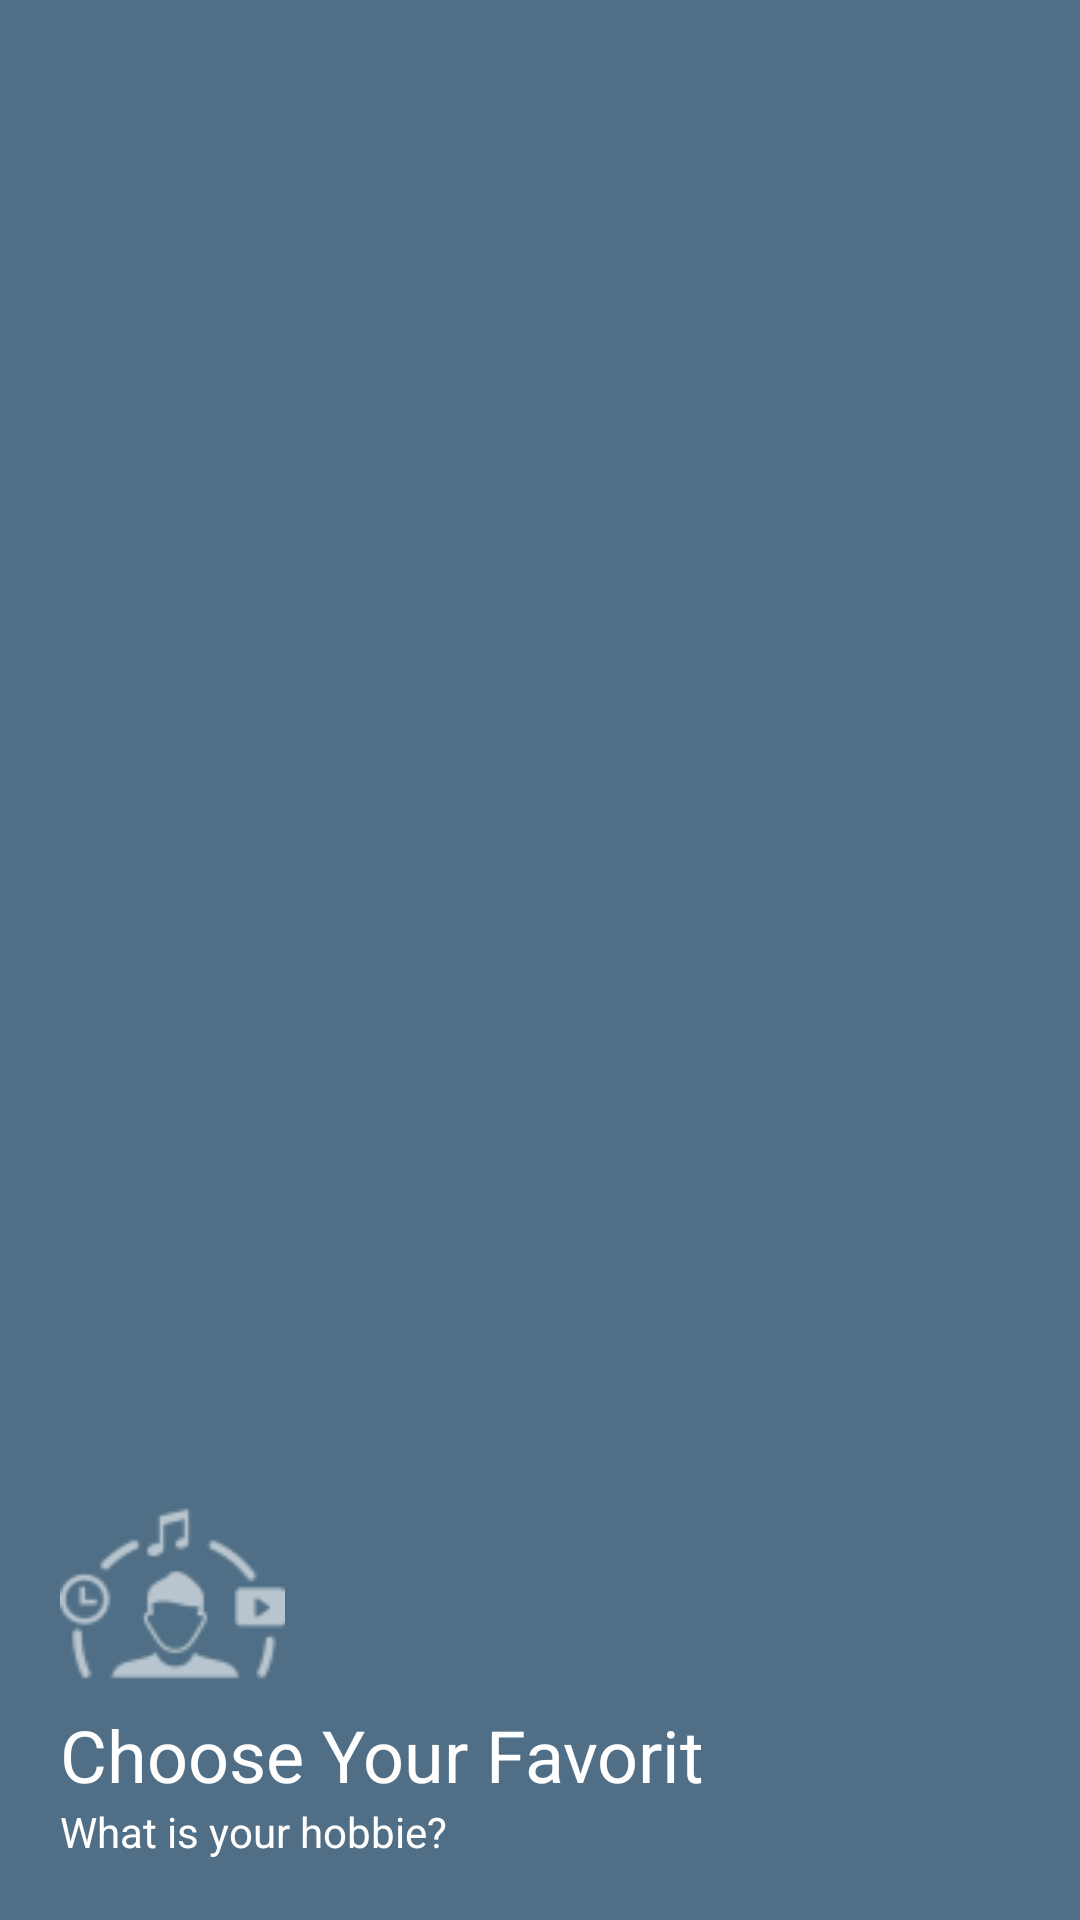

Where icons sit on this 1080x1920 app screen, as (x1, y1, x2, y2):
hobbies: (60, 1509, 285, 1679)
